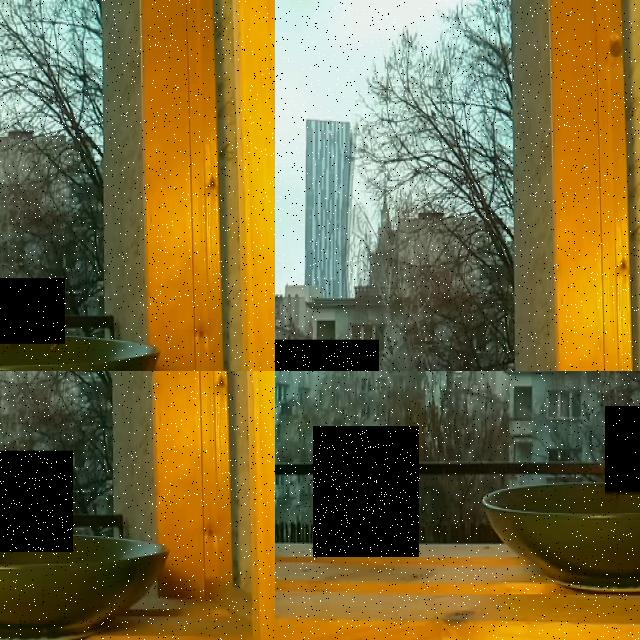Bogatka: (313, 426, 419, 557)
Wrobel: (0, 450, 73, 552), (0, 278, 65, 343), (275, 339, 379, 371), (605, 406, 640, 494)
